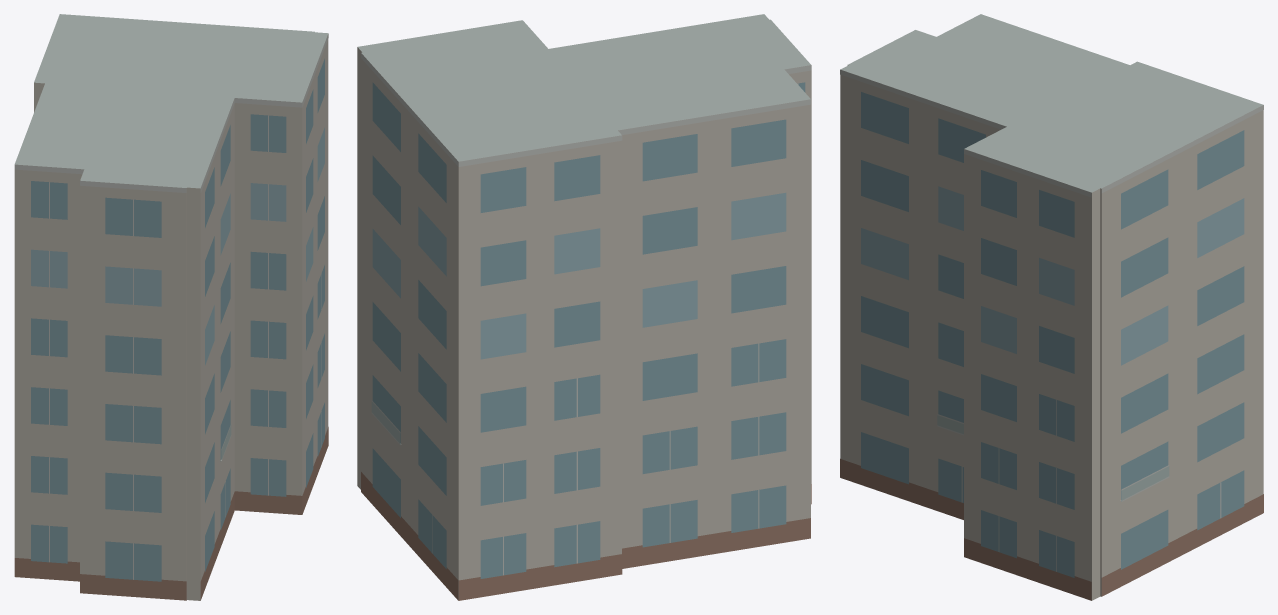
The model's file is survey-upis-32609787.glb.
3 renders of one model, left to right at view 1: azimuth 30°, elevation 25°; view 2: azimuth 150°, elevation 25°; view 3: azimuth 270°, elevation 25°, orthographic. The views are drawn at different scales.
Visible parts, largest first — view 1: survey-upis-32609787.tmp; view 2: survey-upis-32609787.tmp; view 3: survey-upis-32609787.tmp.
Boxes of the visible parts, bbox=[...] form: survey-upis-32609787.tmp: bbox=[14, 14, 328, 600]; survey-upis-32609787.tmp: bbox=[357, 14, 811, 600]; survey-upis-32609787.tmp: bbox=[840, 14, 1263, 600].
Bounding box in the file's own units: 18.74 × 19.95 × 18.77.
